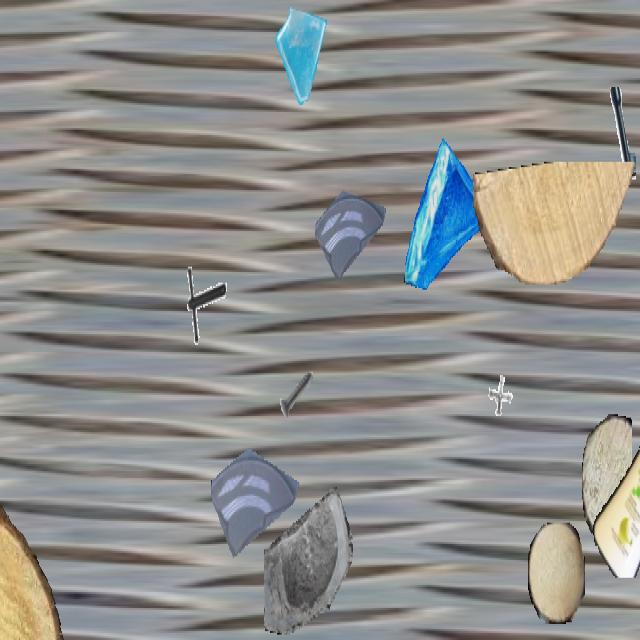glass: (402, 137, 496, 304), (264, 482, 352, 638), (211, 416, 299, 572), (315, 162, 387, 290), (274, 2, 332, 105)
metal: (578, 87, 636, 190), (178, 261, 226, 347), (276, 357, 318, 432), (482, 361, 522, 432)
plastic: (590, 384, 640, 576)
wood: (473, 162, 639, 282), (0, 471, 67, 638), (582, 414, 632, 542), (528, 523, 584, 622)
